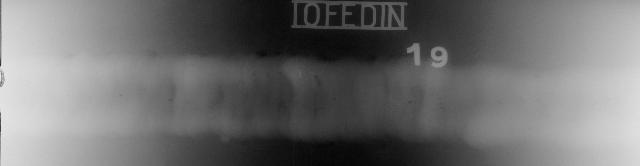FF: (204, 87, 304, 147), (226, 48, 288, 80), (136, 48, 218, 64)
IE: (484, 67, 566, 135), (396, 82, 450, 116), (311, 99, 329, 121)
PO: (166, 98, 174, 105), (118, 93, 124, 98)
